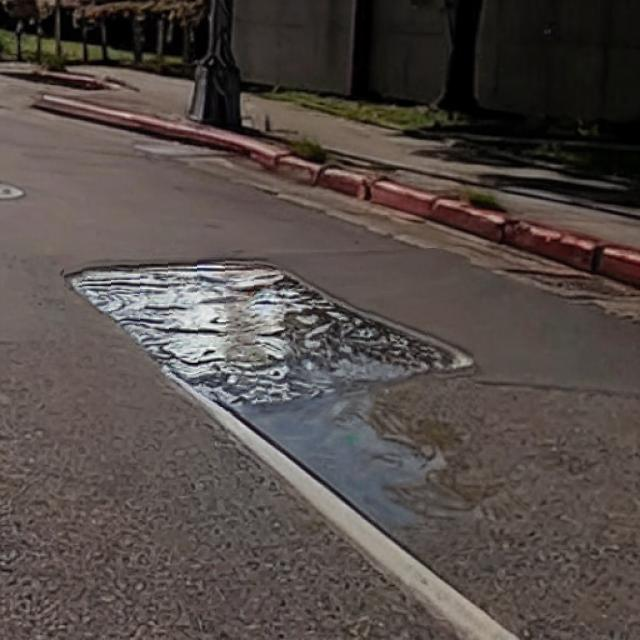puddle: (66, 252, 475, 419)
